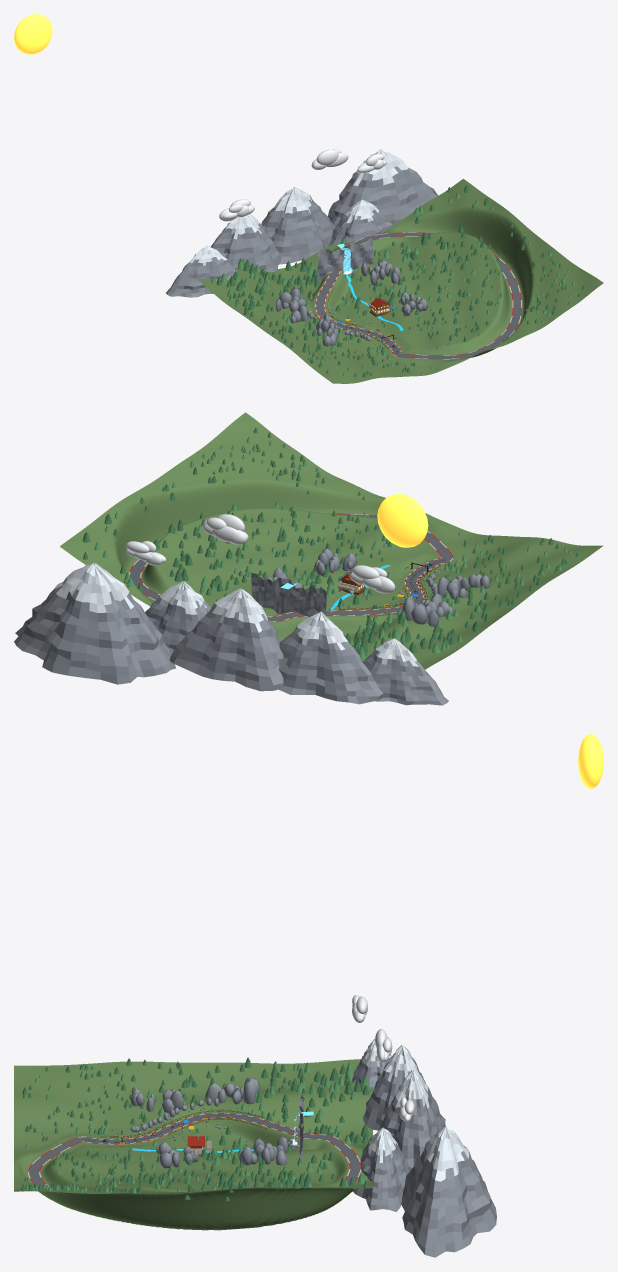
File: blockkart_alpine_golden_scene_v10.glb
The picture shows the model from 3 angles, top to bottom: view 1: azimuth 30°, elevation 25°; view 2: azimuth 150°, elevation 25°; view 3: azimuth 270°, elevation 25°; orthographic projection. The views are drawn at different scales.
Parts seen in each view (by area): view 1: Golden valley terrain, Layered alpine peak 5, Layered alpine peak 3, Golden S curve road, Layered alpine peak 2, Layered alpine peak 1, Layered alpine peak 4, Waterfall cliff wall, Low geometry alpine sun; view 2: Golden valley terrain, Layered alpine peak 5, Layered alpine peak 3, Layered alpine peak 2, Layered alpine peak 1, Layered alpine peak 4, Golden S curve road, Waterfall cliff wall, Low geometry alpine sun; view 3: Golden valley terrain, Layered alpine peak 5, Layered alpine peak 3, Golden S curve road, Layered alpine peak 4, Layered alpine peak 2, Low geometry alpine sun, Layered alpine peak 1.
Boxes of the visible parts, left/top/right/bottom form: Golden valley terrain: left=197, top=179, right=603, bottom=383; Layered alpine peak 5: left=328, top=149, right=438, bottom=226; Layered alpine peak 3: left=261, top=187, right=334, bottom=264; Golden S curve road: left=314, top=232, right=522, bottom=359; Layered alpine peak 2: left=211, top=214, right=280, bottom=272; Layered alpine peak 1: left=166, top=245, right=236, bottom=297; Layered alpine peak 4: left=329, top=199, right=392, bottom=245; Waterfall cliff wall: left=317, top=238, right=374, bottom=280; Low geometry alpine sun: left=14, top=14, right=52, bottom=54; Golden valley terrain: left=60, top=412, right=603, bottom=669; Layered alpine peak 5: left=14, top=563, right=175, bottom=684; Layered alpine peak 3: left=169, top=588, right=283, bottom=691; Layered alpine peak 2: left=278, top=611, right=383, bottom=704; Layered alpine peak 1: left=362, top=638, right=448, bottom=705; Layered alpine peak 4: left=145, top=581, right=210, bottom=654; Golden S curve road: left=128, top=513, right=453, bottom=622; Waterfall cliff wall: left=251, top=573, right=326, bottom=616; Low geometry alpine sun: left=377, top=494, right=428, bottom=547; Golden valley terrain: left=14, top=1059, right=372, bottom=1230; Layered alpine peak 5: left=401, top=1126, right=496, bottom=1257; Layered alpine peak 3: left=378, top=1070, right=445, bottom=1170; Golden S curve road: left=27, top=1112, right=361, bottom=1187; Layered alpine peak 4: left=353, top=1127, right=409, bottom=1211; Layered alpine peak 2: left=363, top=1045, right=425, bottom=1130; Low geometry alpine sun: left=578, top=734, right=603, bottom=788; Layered alpine peak 1: left=352, top=1039, right=391, bottom=1090.
Size of what is drawn, in the model's own units: 681 by 412 by 731.
